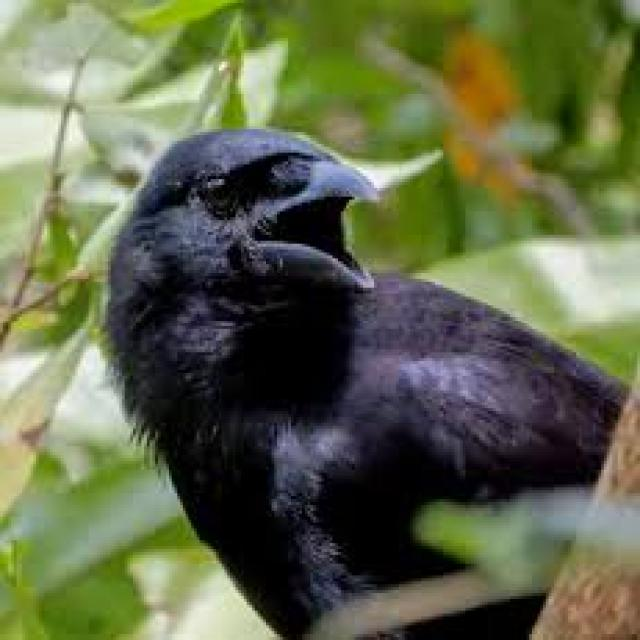crow: (105, 129, 623, 637)
